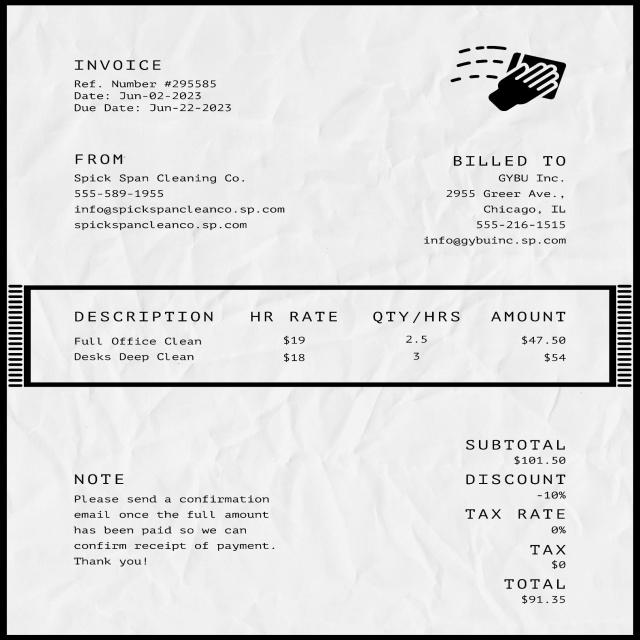paragraph: (442, 428, 588, 618), (48, 146, 323, 240), (64, 466, 284, 577), (412, 147, 588, 258), (70, 50, 253, 122)
table: (32, 287, 617, 387)
